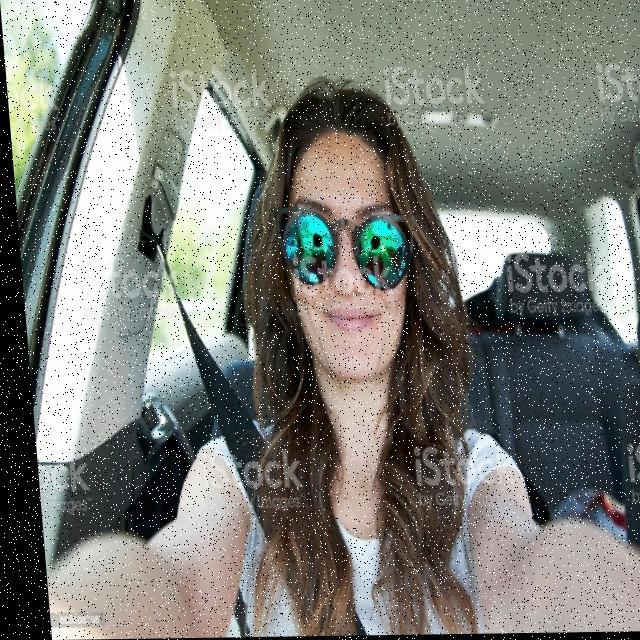seatbelt: (101, 243, 356, 638)
